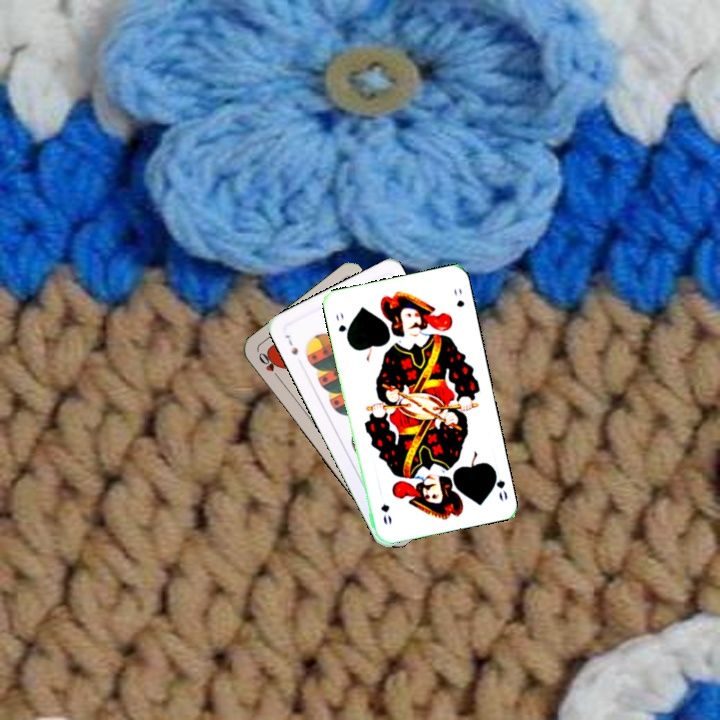GO: (488, 464, 510, 504), (332, 308, 351, 344)
HO: (254, 348, 283, 383)
S7: (281, 330, 301, 358)
